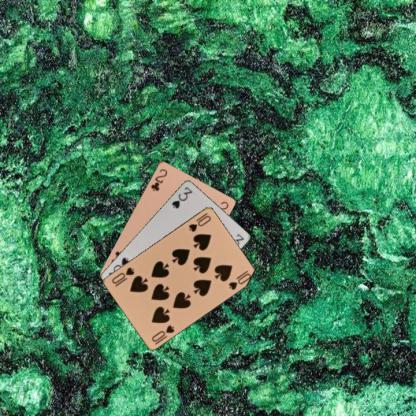10s: (186, 210, 212, 233), (149, 322, 176, 342)
2c: (148, 166, 168, 192)
3s: (169, 184, 194, 209)
